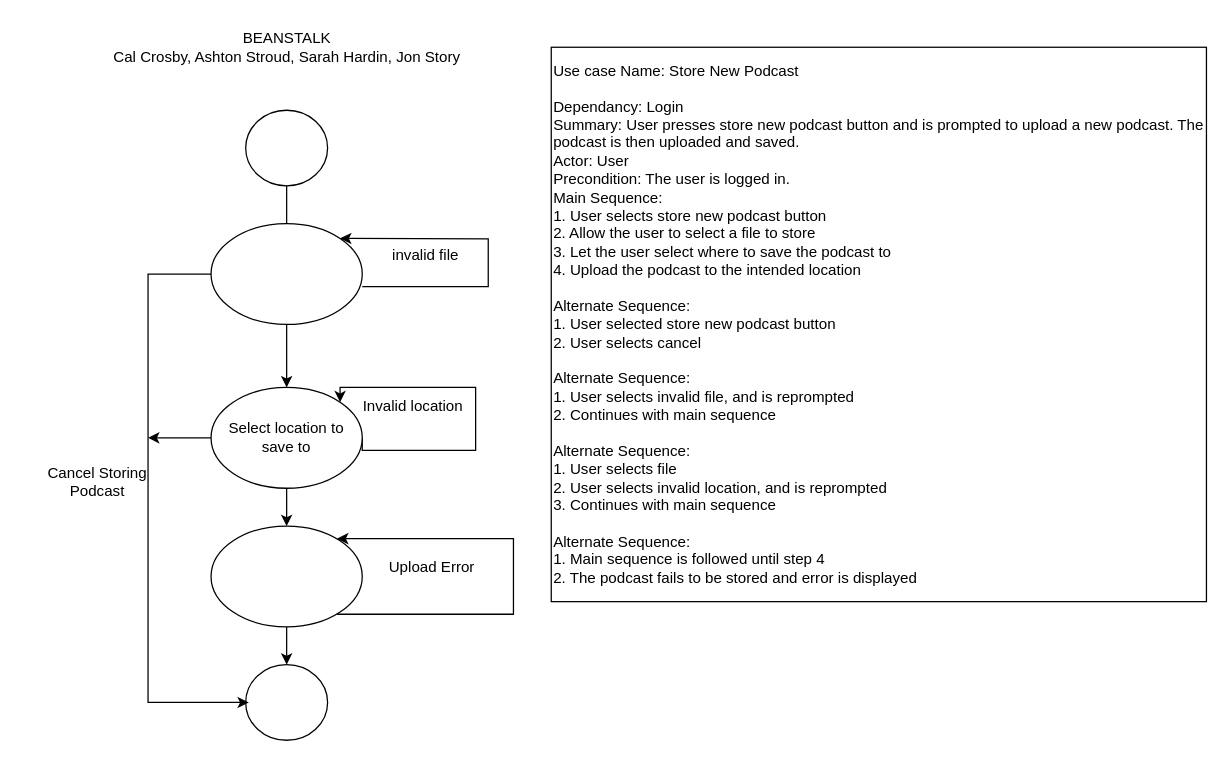
Some shapes in this 1229 by 762 pixel diagram are drawn without their labels. The centre of each missing label's shape, as x and y in pixels:
"Select file" goes at pixel 286 273.
"Upload file to location" goes at pixel 286 576.
